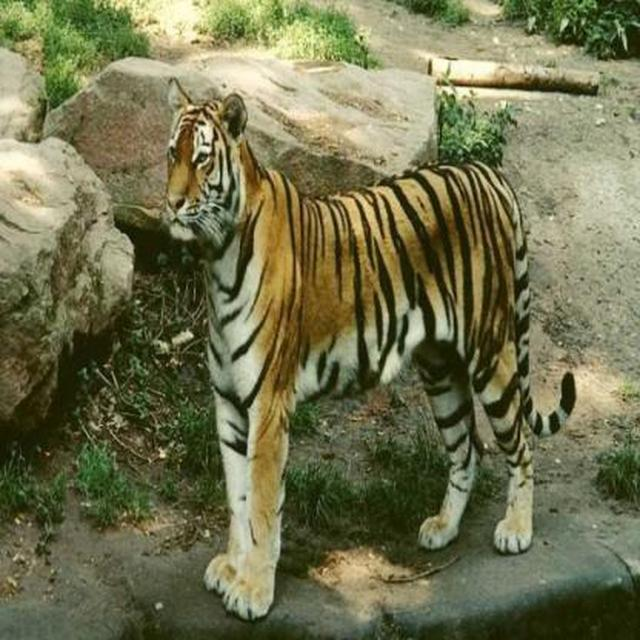tiger: (111, 75, 576, 622)
